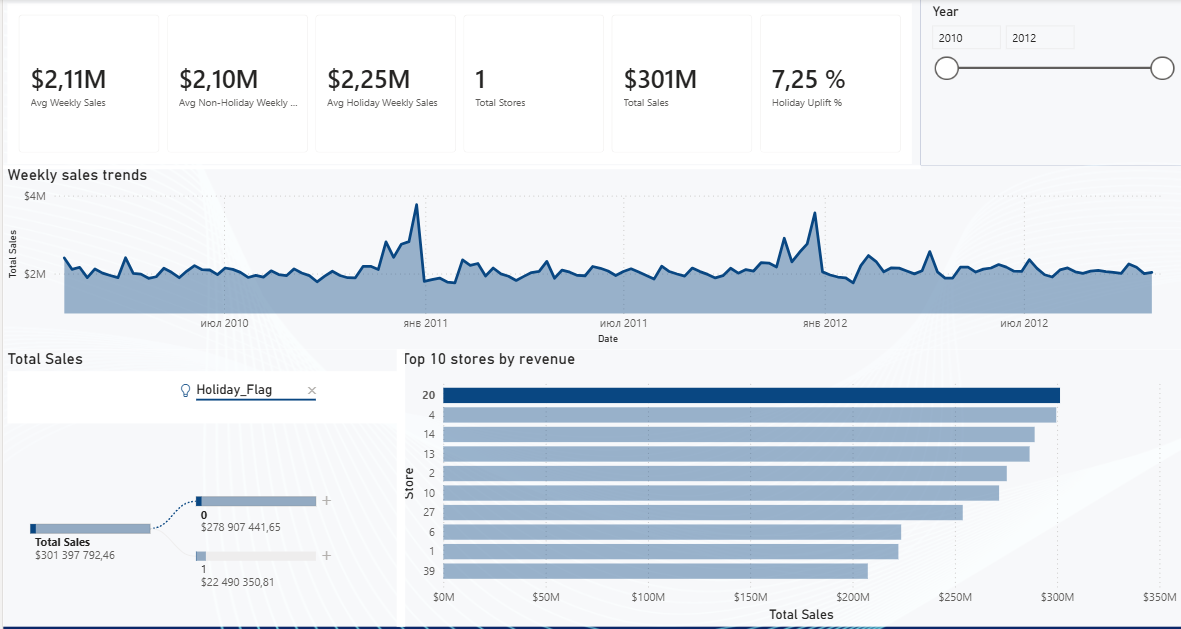

Layout of this report page (visuals, bound fields, positions):
{"tool":"powerbi","page":{"name":"Страница 1","canvas":[1280,720],"ordinal":0},"visuals":[{"type":"cardVisual","fields":{"Data":["Dim_Date.Avg Weekly Sales","Dim_Date.Avg Non-Holiday Weekly Sales","Dim_Date.Avg Holiday Weekly Sales","Dim_Date.Total Stores","Dim_Date.Total Sales","Dim_Date.Holiday Uplift %"]},"box":[0,0,905,185],"z":0},{"type":"areaChart","title":"Weekly sales trends","fields":{"Y":["Dim_Date.Total Sales"],"Category":["Dim_Date.Date"]},"box":[0,180,1280,200],"z":1},{"type":"slicer","fields":{"Values":["Dim_Date.Year"]},"box":[905,0,375,180],"z":2},{"type":"clusteredBarChart","title":" Top 10 stores by revenue","fields":{"Category":["Dim_Store.Store"],"Y":["Dim_Date.Total Sales"]},"box":[436.7,380,843.3,301.7],"z":3},{"type":"decompositionTreeVisual","title":"Total Sales","fields":{"Analyze":["Dim_Date.Total Sales"],"ExplainBy":["Walmart_Sales.Holiday_Flag","Dim_Date.Year"]},"box":[0,380,436.7,301.7],"z":4}]}

Visuals, with their boxes on the page's 1280x720 design canvas (x1, y1, x2, y2). These are canvas units, not pixel positions in the 1181x629 screenshot, which may show the page scaled, cropped or inside an application window:
cardVisual - Dim_Date.Avg Weekly Sales x Dim_Date.Avg Non-Holiday Weekly Sales: select_region(0, 0, 905, 185)
"Weekly sales trends" areaChart: select_region(0, 180, 1280, 380)
slicer - Dim_Date.Year: select_region(905, 0, 1280, 180)
" Top 10 stores by revenue" clusteredBarChart: select_region(437, 380, 1280, 682)
"Total Sales" decompositionTreeVisual: select_region(0, 380, 437, 682)
